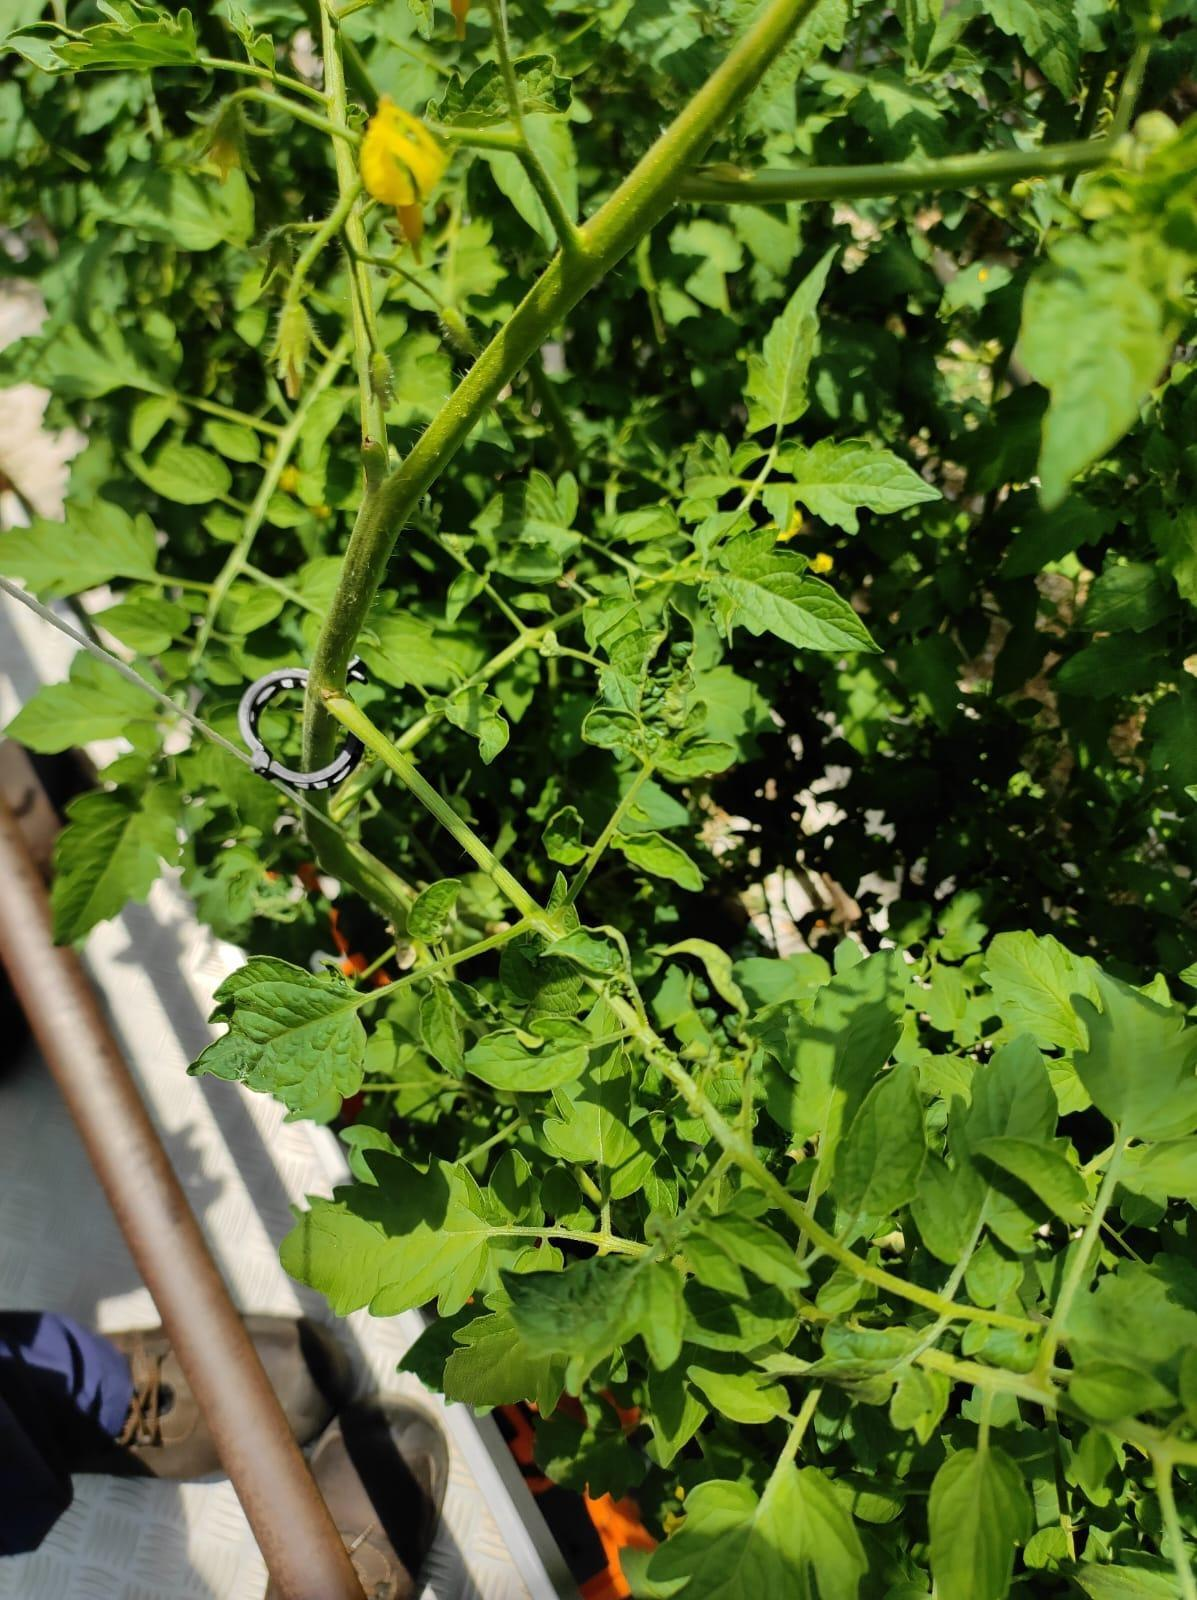Hoja: (724, 249, 939, 530), (280, 1152, 489, 1314), (189, 957, 366, 1107), (710, 514, 877, 650), (50, 785, 176, 940), (928, 1447, 1031, 1599), (831, 1066, 925, 1216)
Pedunculo: (302, 9, 808, 720), (335, 700, 575, 1001), (803, 1225, 1000, 1322)
